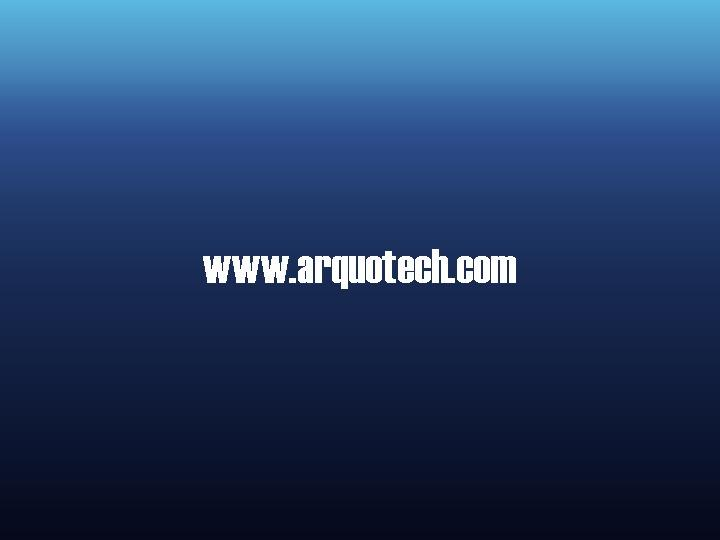title: (175, 235, 530, 310)
